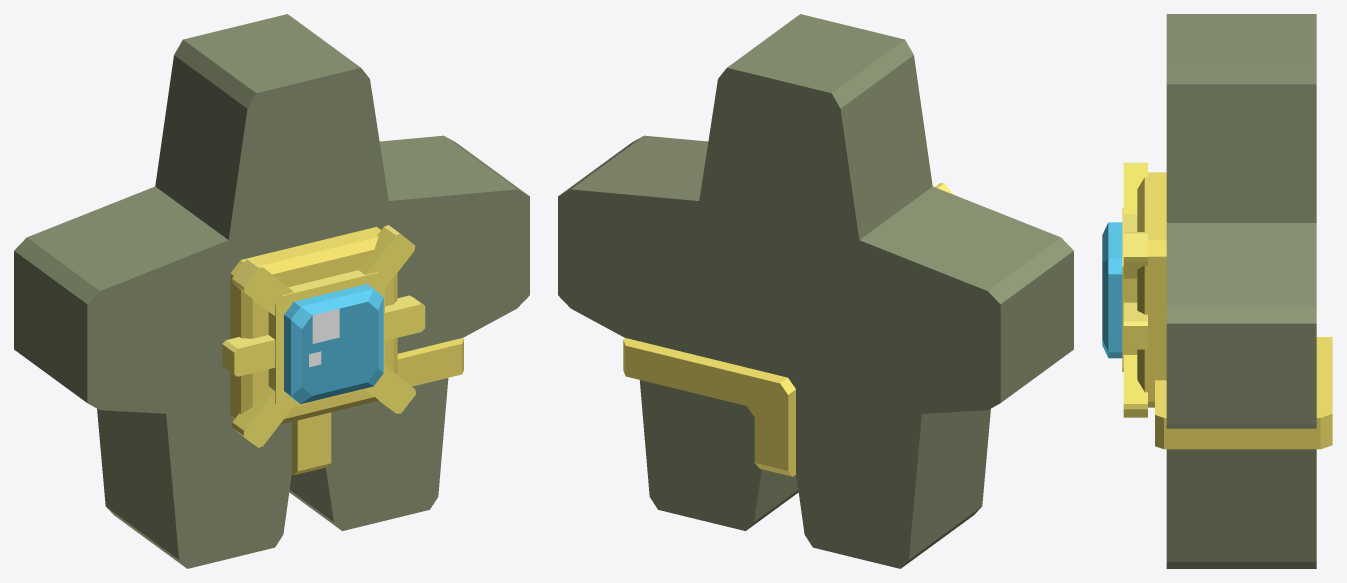
Rendered from model_shiny.obj.
3 views of the same model, side by side, from view 1: azimuth 30°, elevation 25°; view 2: azimuth 150°, elevation 25°; view 3: azimuth 270°, elevation 25° (orthographic). The views are drawn at different scales.
Visible parts, largest first — view 1: 0120_staryu_shiny; view 2: 0120_staryu_shiny; view 3: 0120_staryu_shiny.
Boxes of the visible parts, x1=… form: 0120_staryu_shiny: x1=14, y1=14, x2=529, y2=568; 0120_staryu_shiny: x1=558, y1=14, x2=1073, y2=568; 0120_staryu_shiny: x1=1102, y1=14, x2=1332, y2=568.
Bounding box in the file's own units: 1.93 × 1.91 × 0.8515.
Materials: 1 (1 with a texture image).
